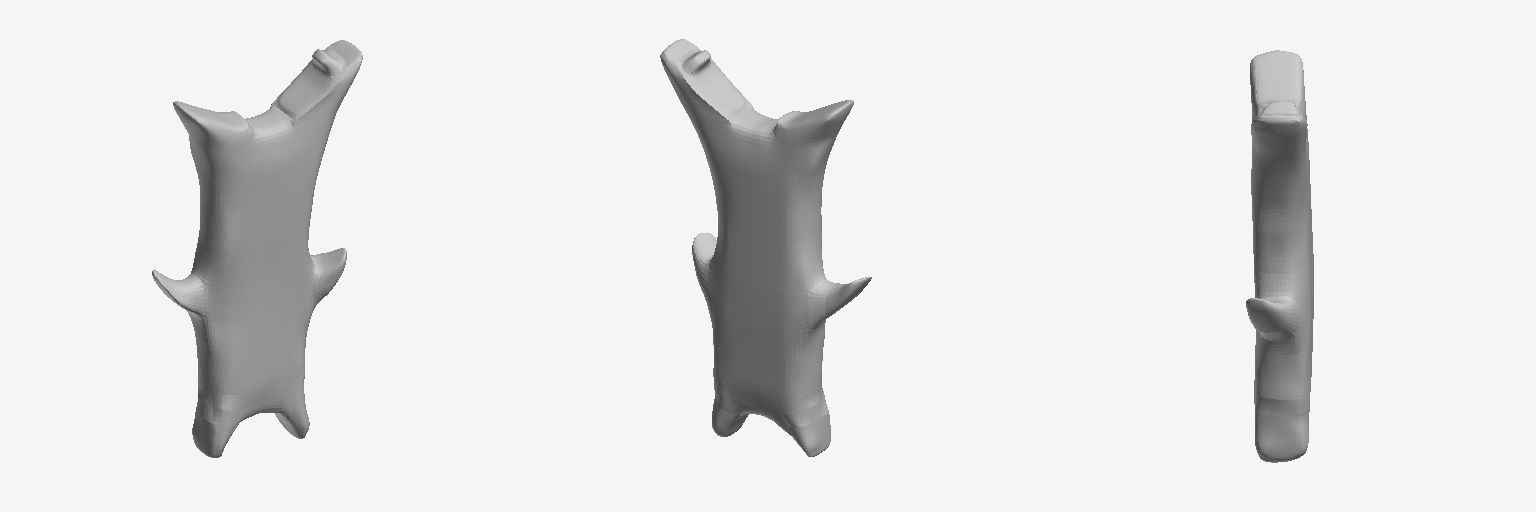
The model's file is korok30.obj.
3 renders of one model, left to right at view 1: azimuth 30°, elevation 25°; view 2: azimuth 150°, elevation 25°; view 3: azimuth 270°, elevation 25°, orthographic.
Parts seen in each view (by area): view 1: Plane; view 2: Plane; view 3: Plane.
Boxes of the visible parts, x1,y1,x2,y2 form: Plane: [152, 40, 362, 457]; Plane: [660, 39, 871, 456]; Plane: [1246, 50, 1313, 462].
Bounding box in the file's own units: 1.01 × 1.82 × 0.3003.